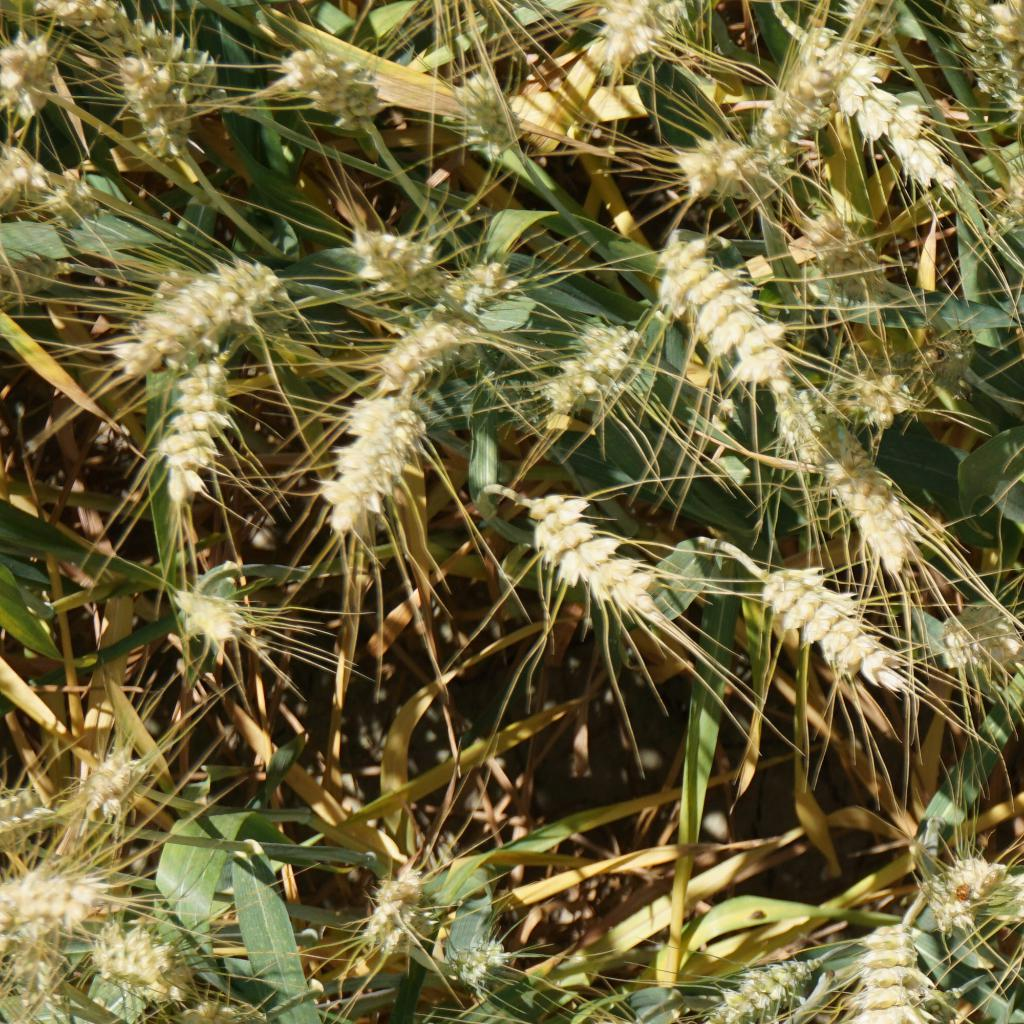0-0: (792, 26, 967, 200), (526, 467, 685, 632), (742, 553, 915, 694), (734, 33, 868, 176), (806, 415, 937, 557), (667, 246, 795, 385), (119, 261, 287, 348), (785, 199, 904, 312), (329, 382, 415, 533), (851, 326, 980, 416), (155, 355, 241, 489), (261, 39, 376, 131), (444, 71, 543, 174), (546, 314, 649, 411), (941, 579, 1024, 691), (719, 938, 815, 1024), (587, 0, 684, 78), (660, 142, 778, 203), (853, 925, 924, 1024), (0, 868, 111, 930), (349, 854, 423, 944), (372, 308, 463, 380), (837, 359, 924, 433), (0, 244, 90, 315), (91, 917, 190, 981), (122, 60, 184, 156), (354, 220, 440, 280), (167, 579, 250, 640), (921, 853, 989, 927), (136, 28, 214, 89), (771, 379, 833, 452), (176, 981, 281, 1024), (75, 755, 150, 812), (433, 925, 506, 981), (0, 147, 64, 210), (0, 45, 60, 111), (0, 777, 56, 844), (992, 15, 1024, 131), (446, 259, 517, 308), (952, 3, 989, 91), (45, 0, 129, 36), (989, 157, 1024, 236), (581, 1005, 700, 1024)
